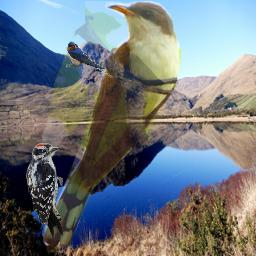Cuckoo: (42, 1, 181, 254)
Swallow: (66, 41, 113, 78)
Woodpecker: (25, 143, 63, 239)
